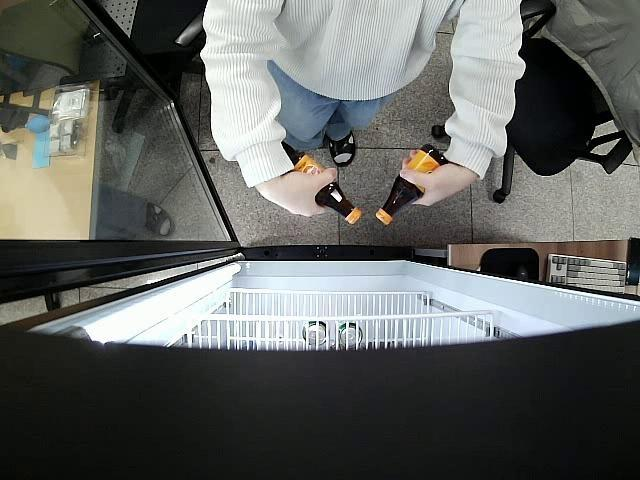17_vita500: (375, 145, 450, 224), (294, 152, 362, 225)
